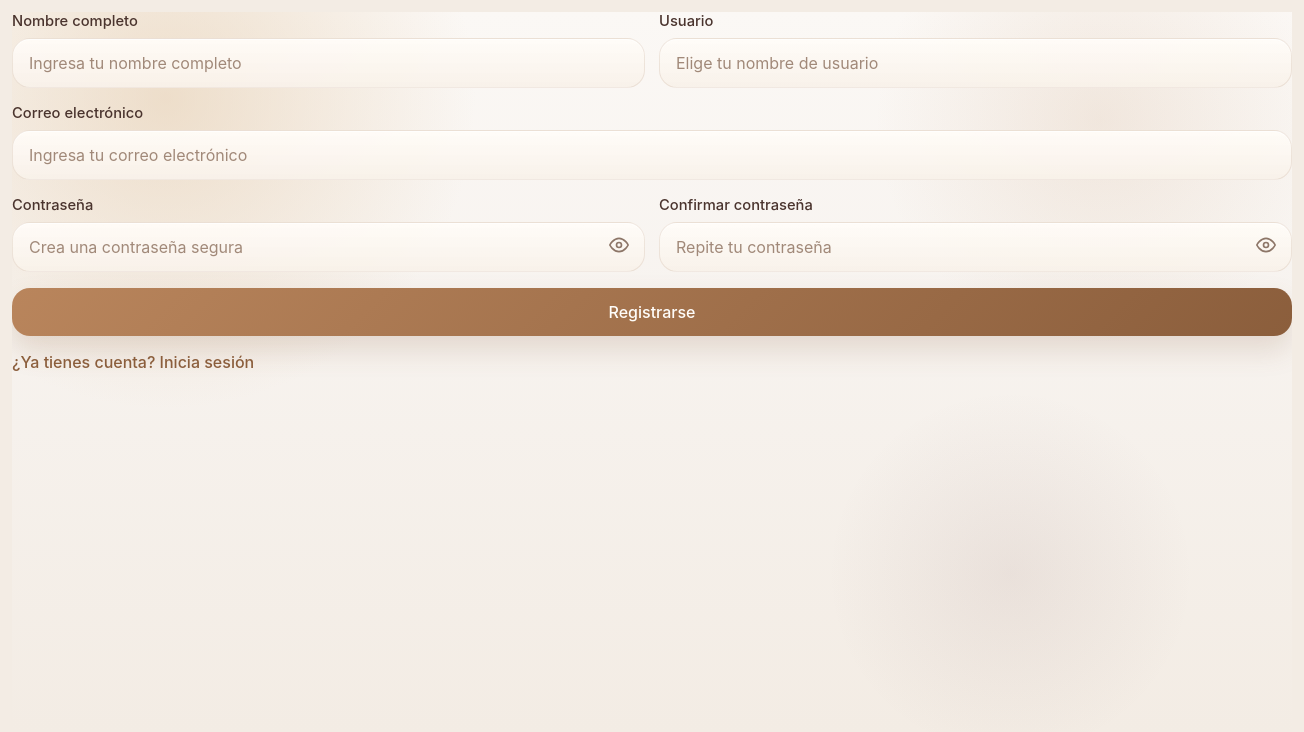
it: RegisterForm › lets the username use letters, numbers and symbols
The width and height of the screenshot is (1304, 732).
Step 1. Type "Ana Torres" into the field with placeholder "Ingresa tu nombre completo" → (328, 63), box [12,38,645,88]
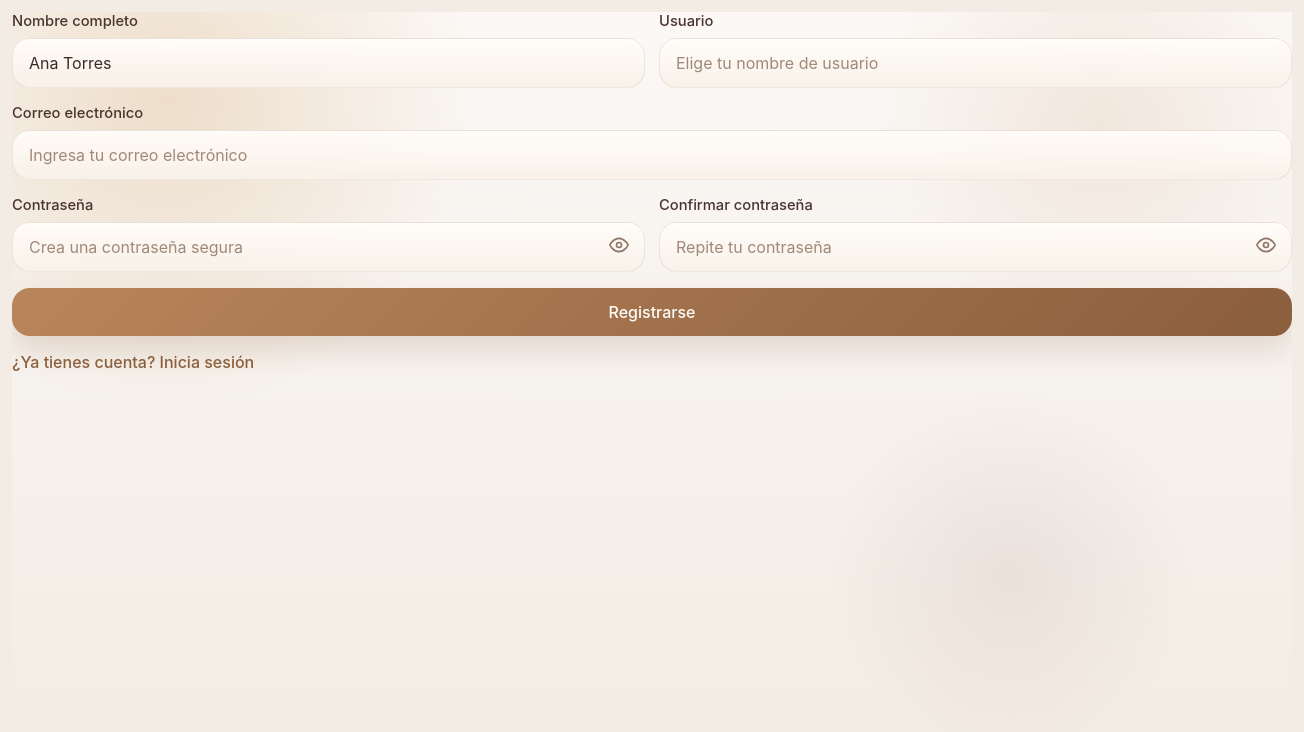
Step 2. Type "ana@gmail.com" into the field with placeholder "Ingresa tu correo electrónico" → (652, 155), box [12,130,1292,180]
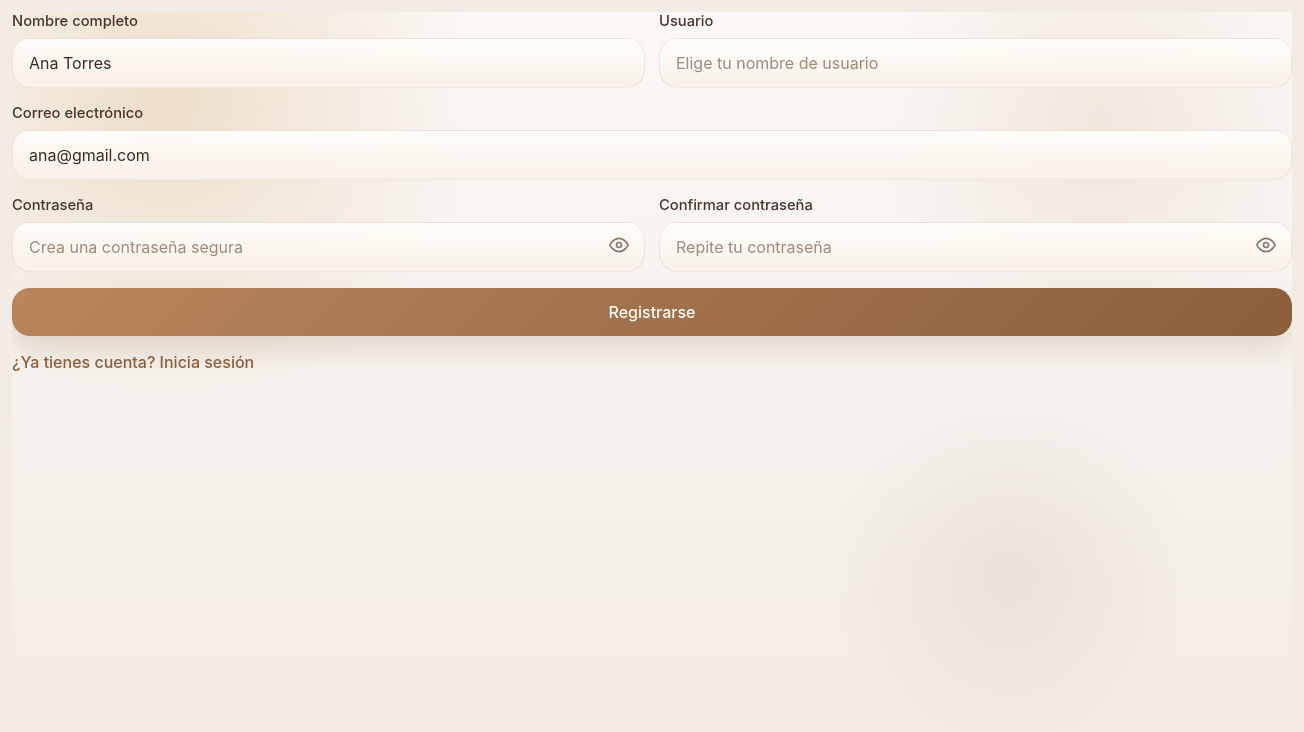
Step 3. Type "Ana_2024#!" into the field with placeholder "Elige tu nombre de usuario" → (976, 63), box [659,38,1292,88]
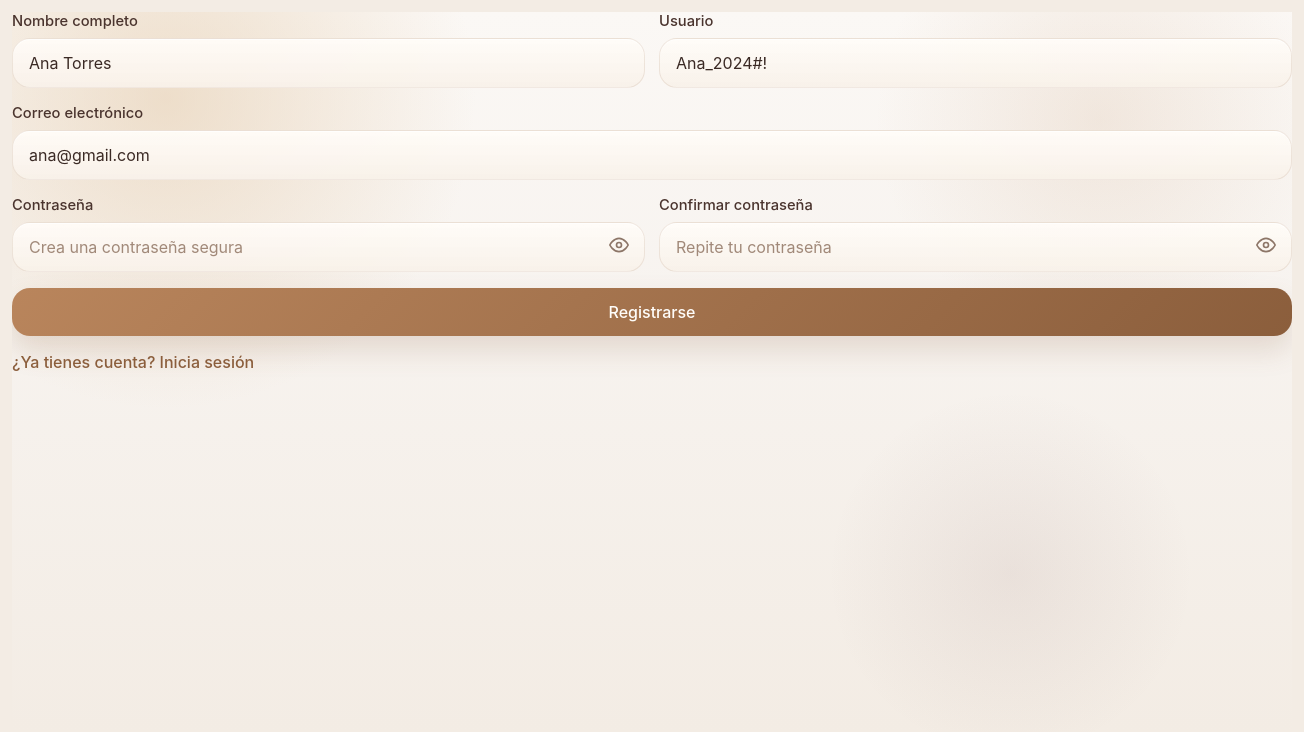
Step 4. Type "Password123" into the password field with placeholder "Crea una contraseña segura" → (328, 247), box [12,222,645,272]
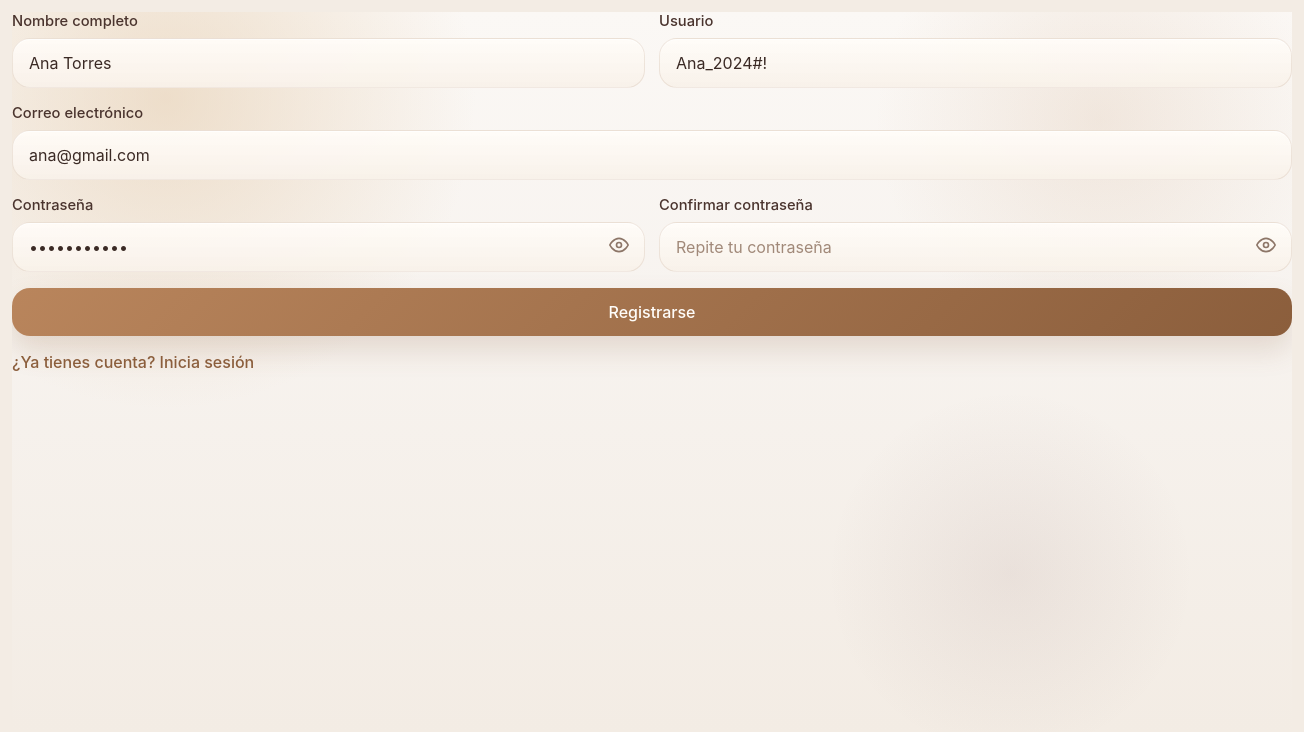
Step 5. Type "Password123" into the password field with placeholder "Repite tu contraseña" → (976, 247), box [659,222,1292,272]
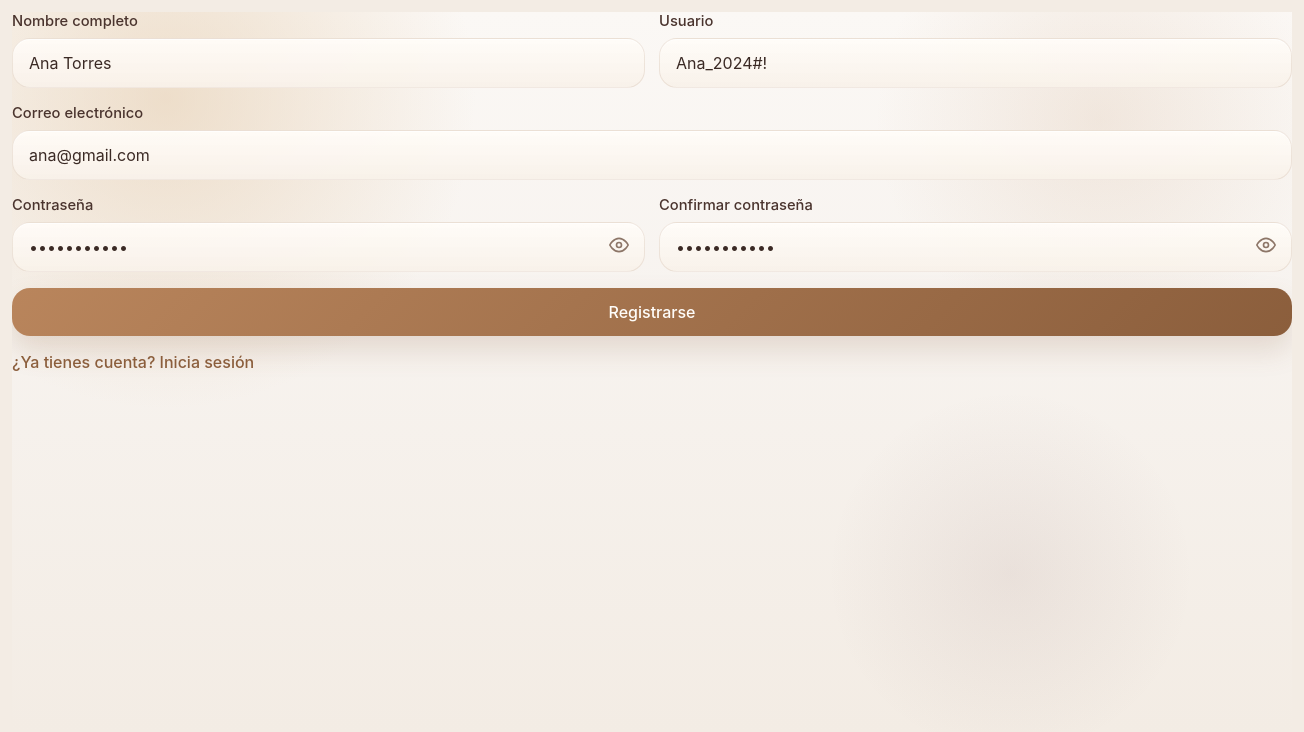
Step 6. Click the button "Registrarse" → (652, 312), box [12,288,1292,336]
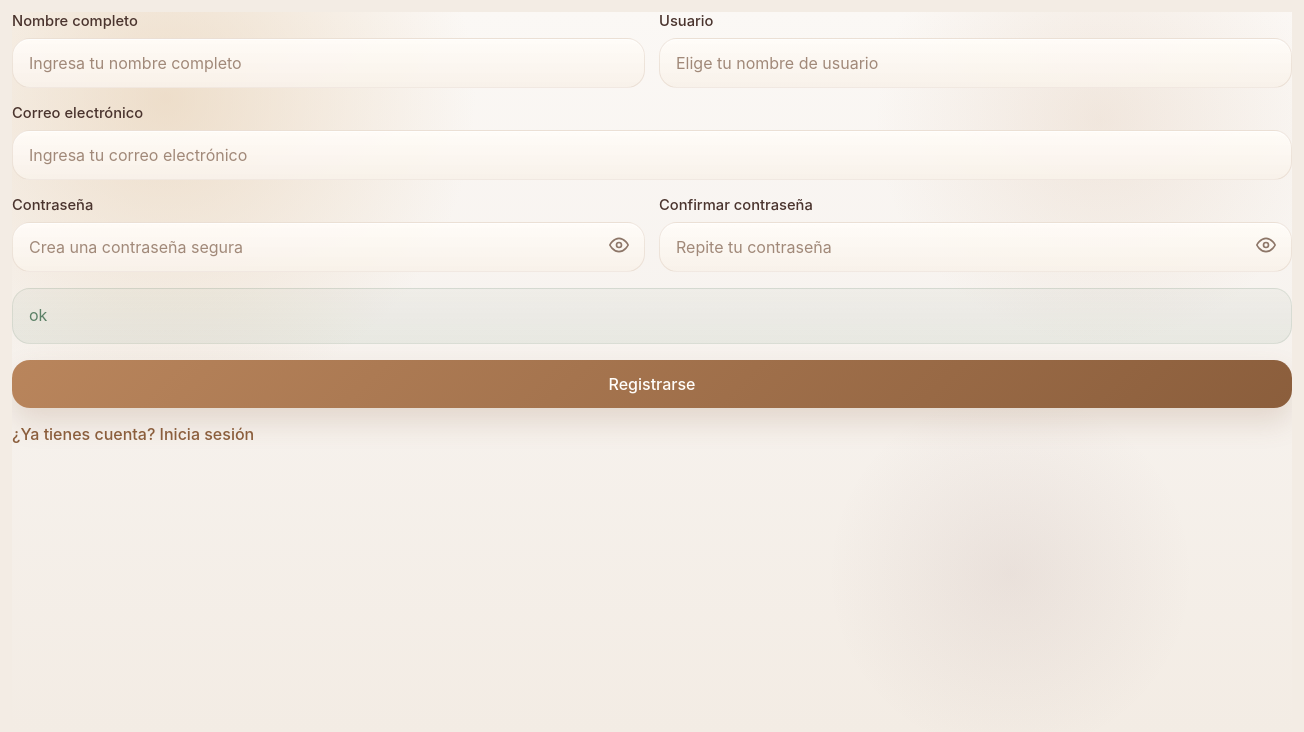
Check: the text "ok" is shown, box [12,288,1292,344]
